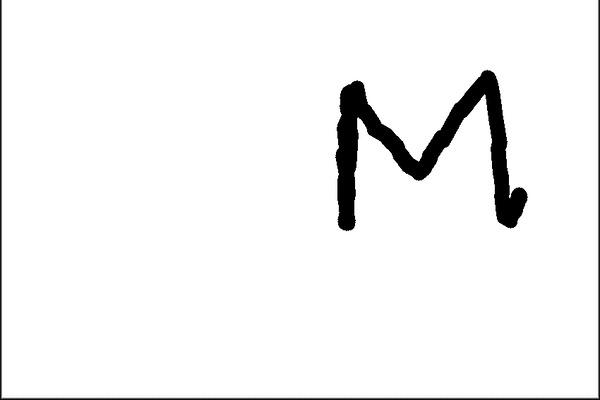M: (334, 63, 528, 233)
